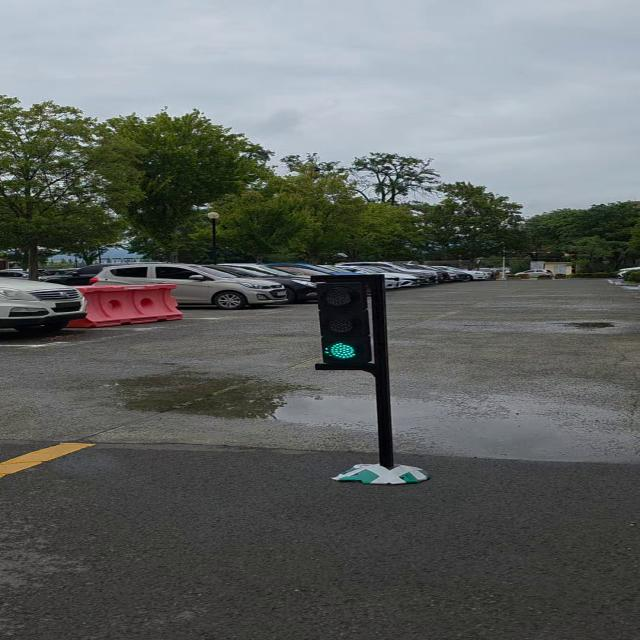green: (316, 277, 388, 366)
